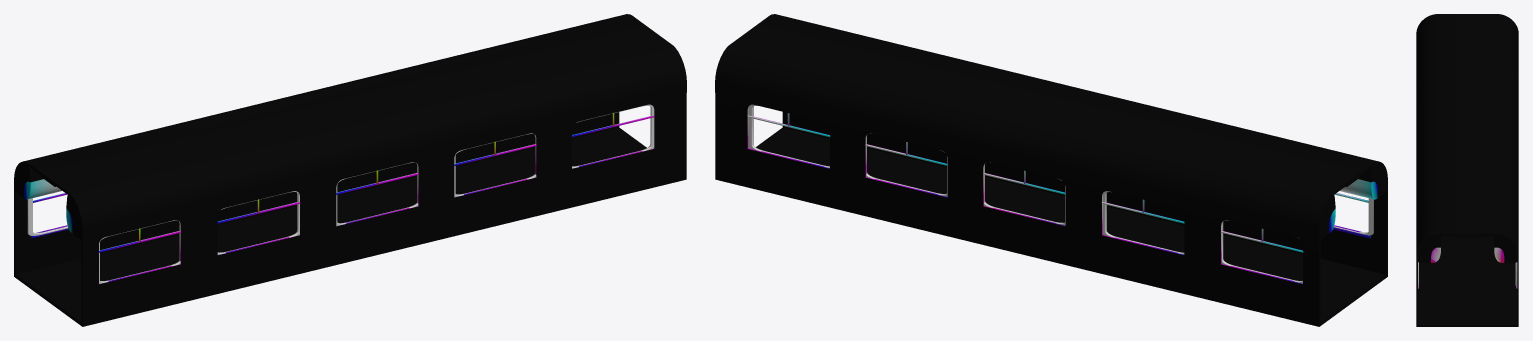
File: VagonVentilación.fbx
The picture shows the model from 3 angles, left to right: view 1: azimuth 30°, elevation 25°; view 2: azimuth 150°, elevation 25°; view 3: azimuth 270°, elevation 25°; orthographic projection. The views are drawn at different scales.
Parts seen in each view (by area): view 1: VagonVentanasLau004, VagonVentanasLau005; view 2: VagonVentanasLau004, VagonVentanasLau005; view 3: VagonVentanasLau005, VagonVentanasLau004.
Boxes of the visible parts, x1,y1,x2,y2 form: VagonVentanasLau004: [16, 14, 686, 326]; VagonVentanasLau005: [14, 14, 686, 326]; VagonVentanasLau004: [715, 14, 1385, 325]; VagonVentanasLau005: [715, 14, 1387, 326]; VagonVentanasLau005: [1416, 14, 1518, 326]; VagonVentanasLau004: [1416, 14, 1518, 248].
Bounding box in the file's own units: 2038 × 400 × 401.
